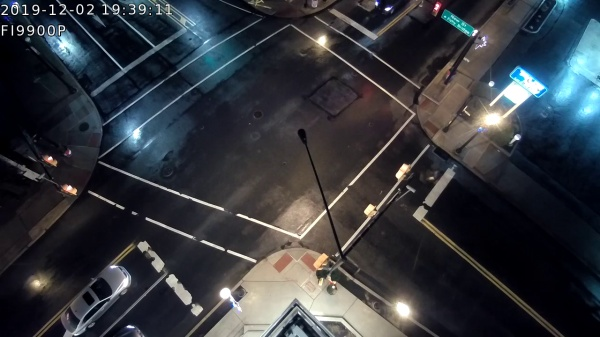car: (62, 265, 130, 334), (107, 321, 148, 337), (374, 1, 406, 18)
